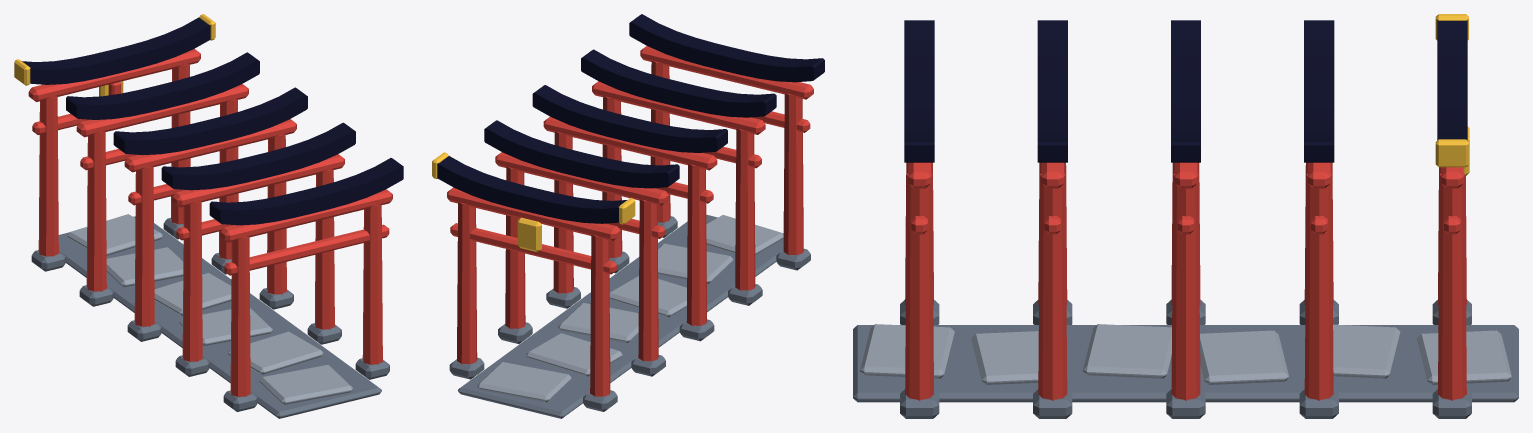
The model's file is Prop_samurai_castle_ToriiRow.glb.
The picture shows the model from 3 angles, left to right: view 1: azimuth 30°, elevation 25°; view 2: azimuth 150°, elevation 25°; view 3: azimuth 270°, elevation 25°; orthographic projection. The views are drawn at different scales.
Parts seen in each view (by area): view 1: ZoneRed_E0453C, Ink_0D0F2B, StoneDark_6B7686, StoneLight_9AA4B2, Gold_FFC83D; view 2: ZoneRed_E0453C, Ink_0D0F2B, StoneDark_6B7686, StoneLight_9AA4B2, Gold_FFC83D; view 3: ZoneRed_E0453C, StoneDark_6B7686, Ink_0D0F2B, StoneLight_9AA4B2, Gold_FFC83D.
Boxes of the visible parts, bbox=[...] form: ZoneRed_E0453C: bbox=[28, 49, 392, 396]; Ink_0D0F2B: bbox=[22, 17, 403, 225]; StoneDark_6B7686: bbox=[31, 216, 389, 418]; StoneLight_9AA4B2: bbox=[67, 214, 353, 404]; Gold_FFC83D: bbox=[14, 14, 215, 96]; ZoneRed_E0453C: bbox=[447, 46, 813, 396]; Ink_0D0F2B: bbox=[437, 14, 824, 223]; StoneDark_6B7686: bbox=[449, 214, 810, 418]; StoneLight_9AA4B2: bbox=[477, 215, 783, 402]; Gold_FFC83D: bbox=[432, 152, 635, 252]; ZoneRed_E0453C: bbox=[905, 162, 1466, 400]; StoneDark_6B7686: bbox=[853, 299, 1518, 418]; Ink_0D0F2B: bbox=[904, 20, 1467, 162]; StoneLight_9AA4B2: bbox=[860, 324, 1511, 384]; Gold_FFC83D: bbox=[1435, 14, 1469, 176].
Bounding box in the file's own units: 10.15 × 10.6 × 22.
